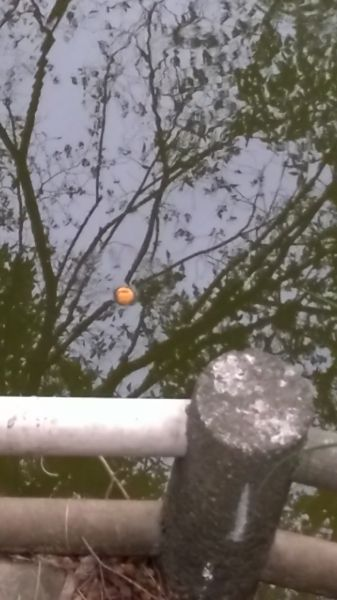eggs: (112, 283, 136, 307)
